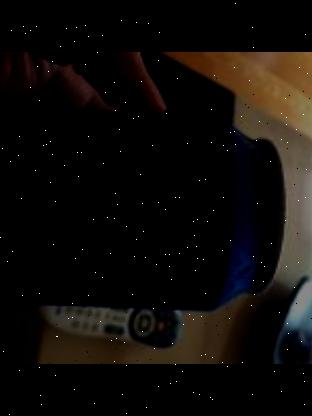Can: (0, 103, 286, 310)
